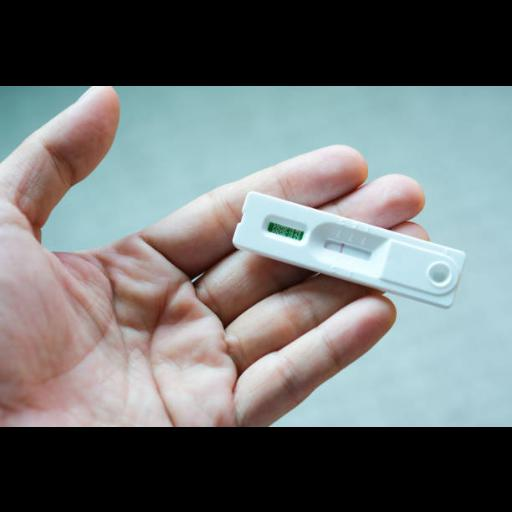Neg: (230, 190, 466, 307)
